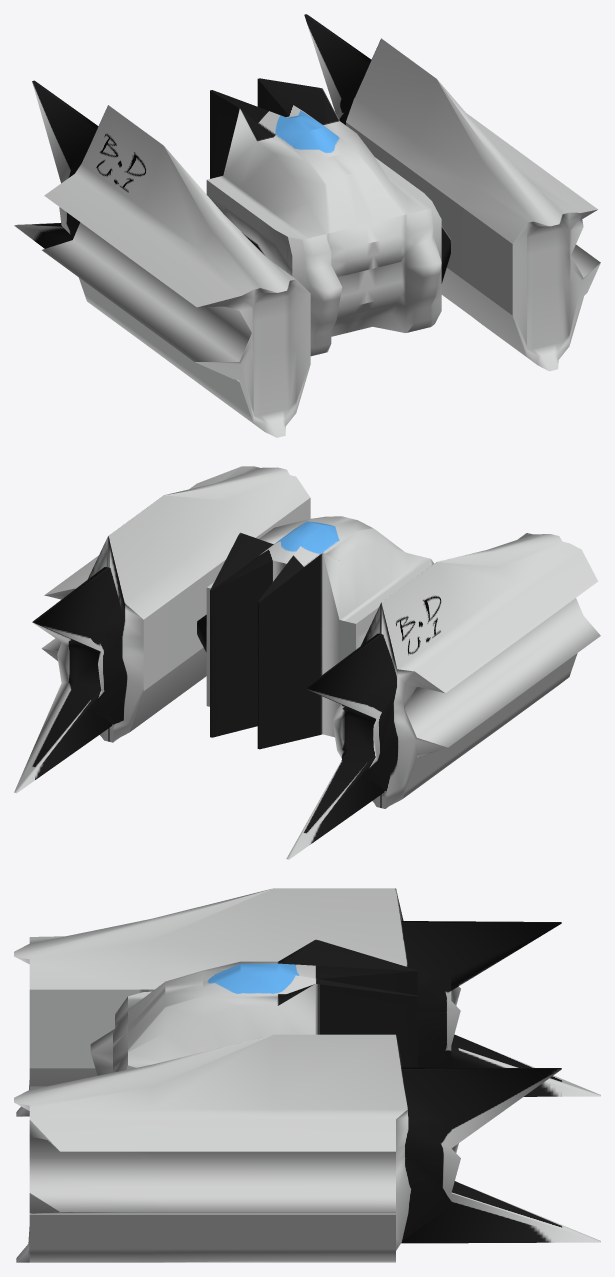
The model's file is missle ship.obj.
3 renders of one model, top to bottom at view 1: azimuth 30°, elevation 25°; view 2: azimuth 150°, elevation 25°; view 3: azimuth 270°, elevation 25°, orthographic. The views are drawn at different scales.
Parts seen in each view (by area): view 1: missle_ship:pCube5; view 2: missle_ship:pCube5; view 3: missle_ship:pCube5.
Part boxes in pixels (box(x1,y1,x2,y2)): missle_ship:pCube5: box(14, 14, 600, 437); missle_ship:pCube5: box(14, 466, 600, 859); missle_ship:pCube5: box(14, 888, 600, 1262).
Size of the model in its own units: 28.56 by 13.79 by 32.49.
